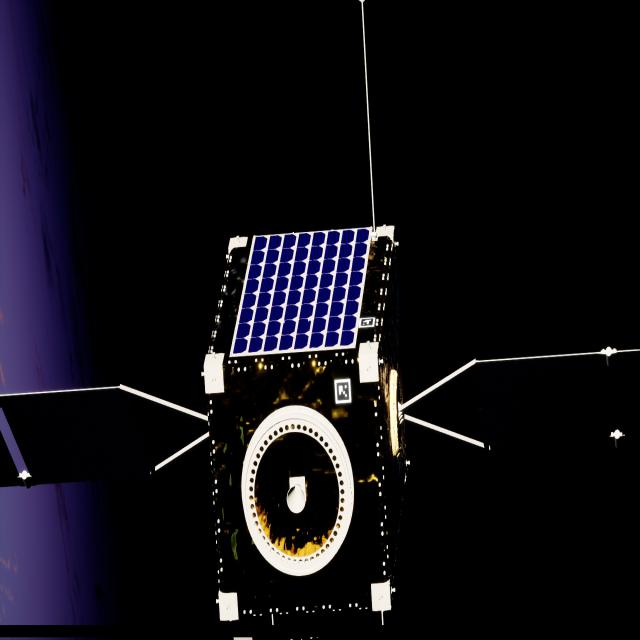satellite: (0, 226, 640, 619)
